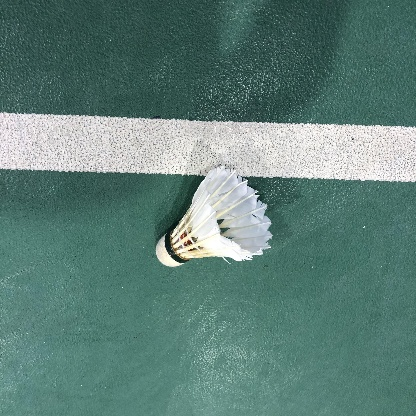ball_single: (156, 166, 273, 267)
